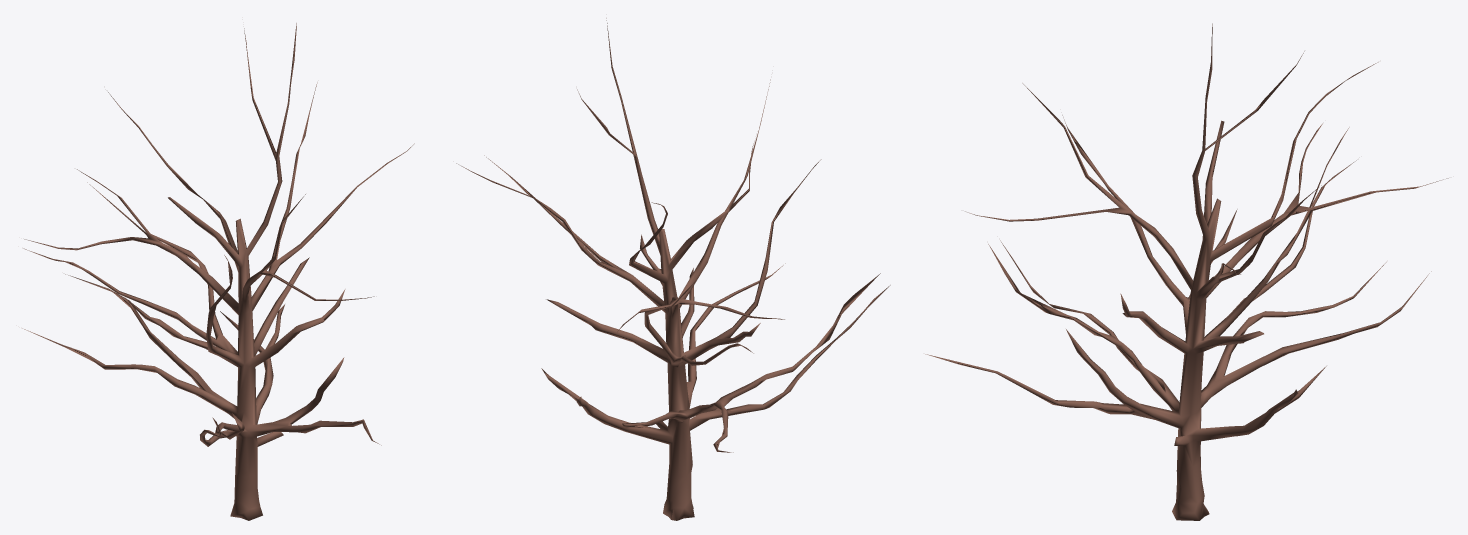
File: dead_tree_j.FBX
The picture shows the model from 3 angles, left to right: view 1: azimuth 30°, elevation 25°; view 2: azimuth 150°, elevation 25°; view 3: azimuth 270°, elevation 25°; orthographic projection. The views are drawn at different scales.
Parts seen in each view (by area): view 1: dead_tree_j_LOD0; view 2: dead_tree_j_LOD0; view 3: dead_tree_j_LOD0.
Part boxes in pixels (box(x1,y1,x2,y2)): dead_tree_j_LOD0: box(22, 23, 414, 520); dead_tree_j_LOD0: box(456, 18, 890, 520); dead_tree_j_LOD0: box(925, 23, 1448, 520).
Size of what is drawn, in the model's own units: 1403 by 1749 by 1578.
